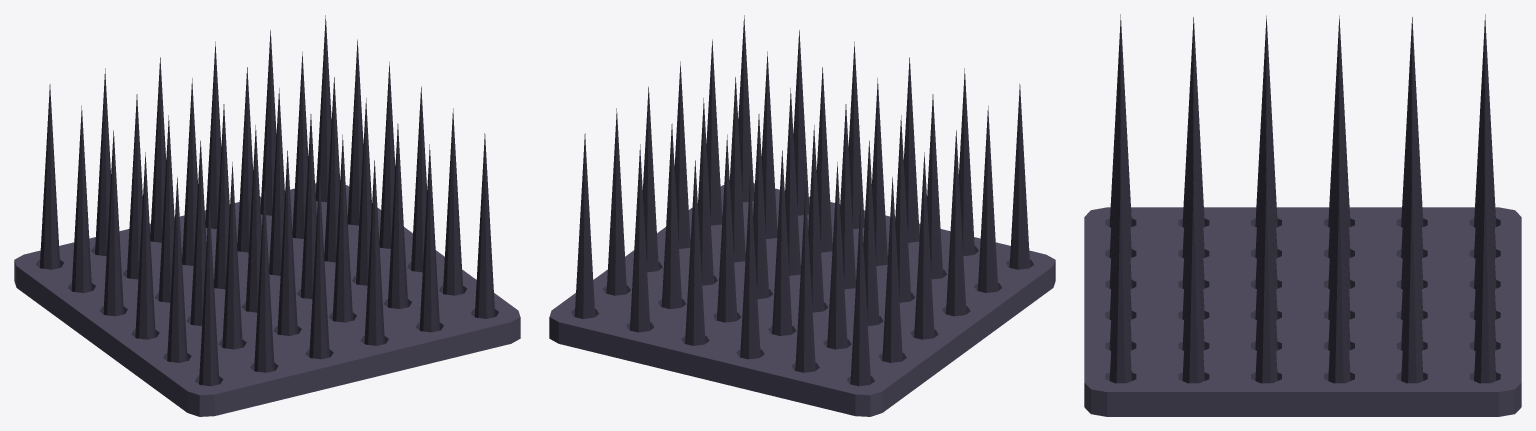
The model's file is Trap_spikes.glb.
The picture shows the model from 3 angles, left to right: view 1: azimuth 30°, elevation 25°; view 2: azimuth 150°, elevation 25°; view 3: azimuth 270°, elevation 25°; orthographic projection. The views are drawn at different scales.
Parts seen in each view (by area): view 1: Trap_spikes; view 2: Trap_spikes; view 3: Trap_spikes.
Boxes of the visible parts, box(x1,y1,x2,y2) form: Trap_spikes: box(14, 15, 520, 416); Trap_spikes: box(549, 15, 1055, 416); Trap_spikes: box(1084, 14, 1521, 416).
Size of the model in its own units: 1.99 by 1.17 by 1.99.
